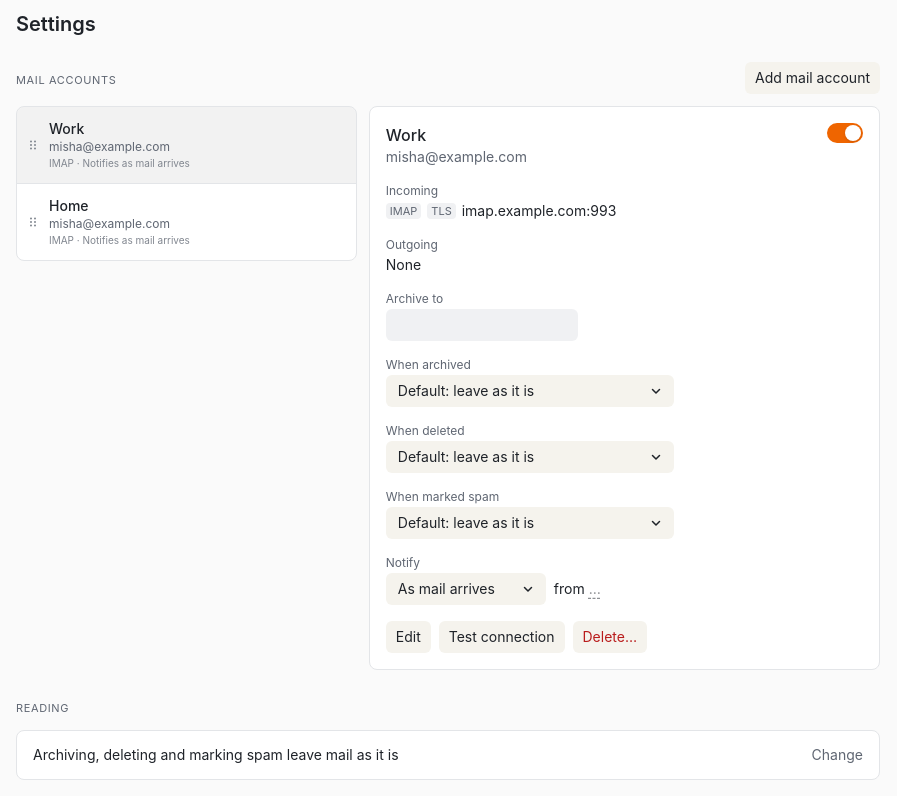
Scenario: settings › shows the account picked from the list beside it
Expected: the heading "Work" is shown, x1=386 y1=125 x2=426 y2=145
Click the button "Home misha@example.com IMAP · Notifies as mail arrives": [69, 206] box x1=17 y1=184 x2=356 y2=260
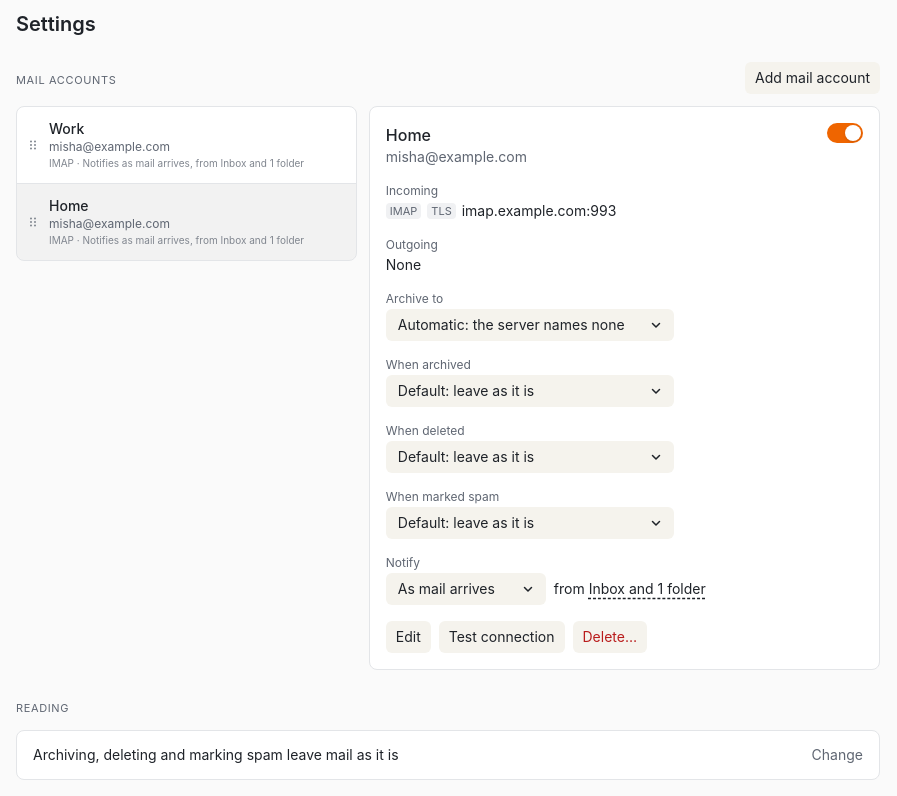
Expected: the heading "Home" is shown, x1=386 y1=125 x2=431 y2=145
